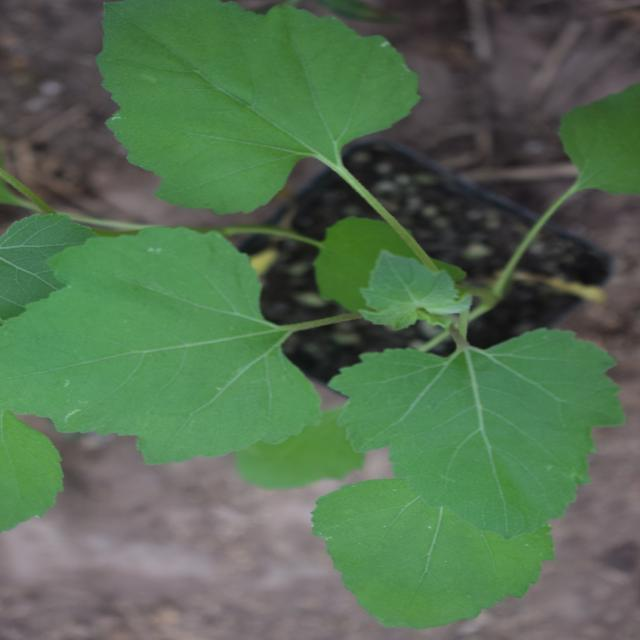cocklebur: (32, 16, 612, 605)
